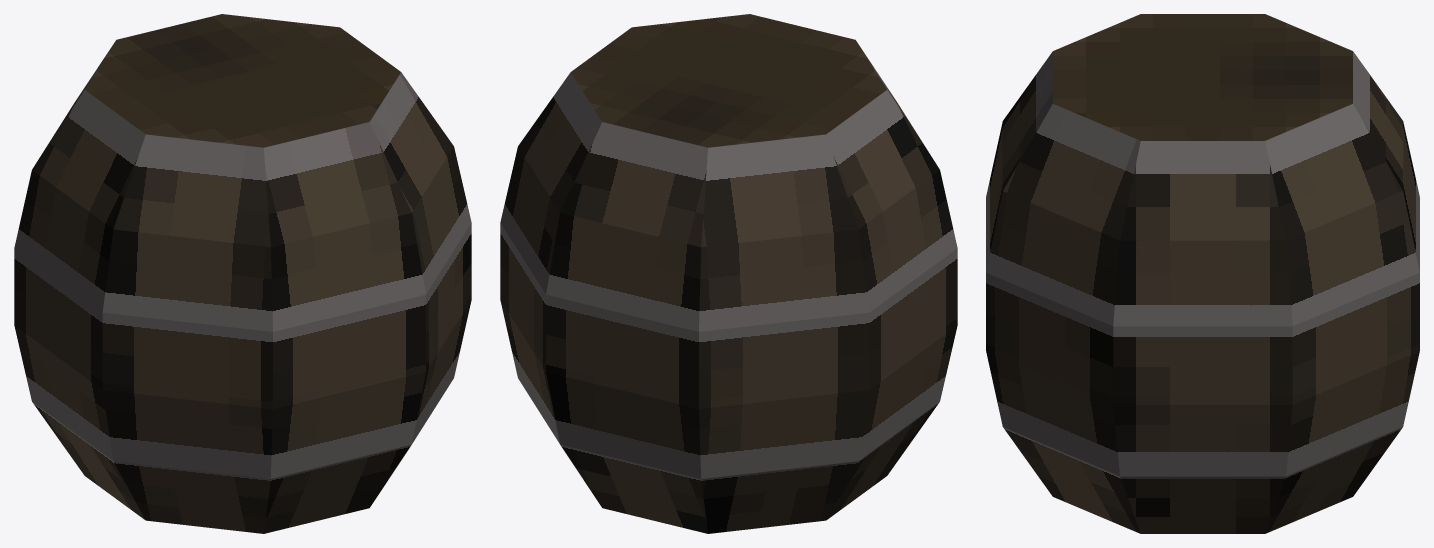
The model's file is barrel.gltf.
The picture shows the model from 3 angles, left to right: view 1: azimuth 30°, elevation 25°; view 2: azimuth 150°, elevation 25°; view 3: azimuth 270°, elevation 25°; orthographic projection.
Visible parts, largest first — view 1: cylinder; view 2: cylinder; view 3: cylinder.
Boxes of the visible parts, x1,y1,x2,y2 form: cylinder: [14, 14, 471, 533]; cylinder: [500, 14, 957, 533]; cylinder: [986, 14, 1419, 533].
Bounding box in the file's own units: 0.8125 × 0.8125 × 0.8125.
Materials: 1 (1 with a texture image).
